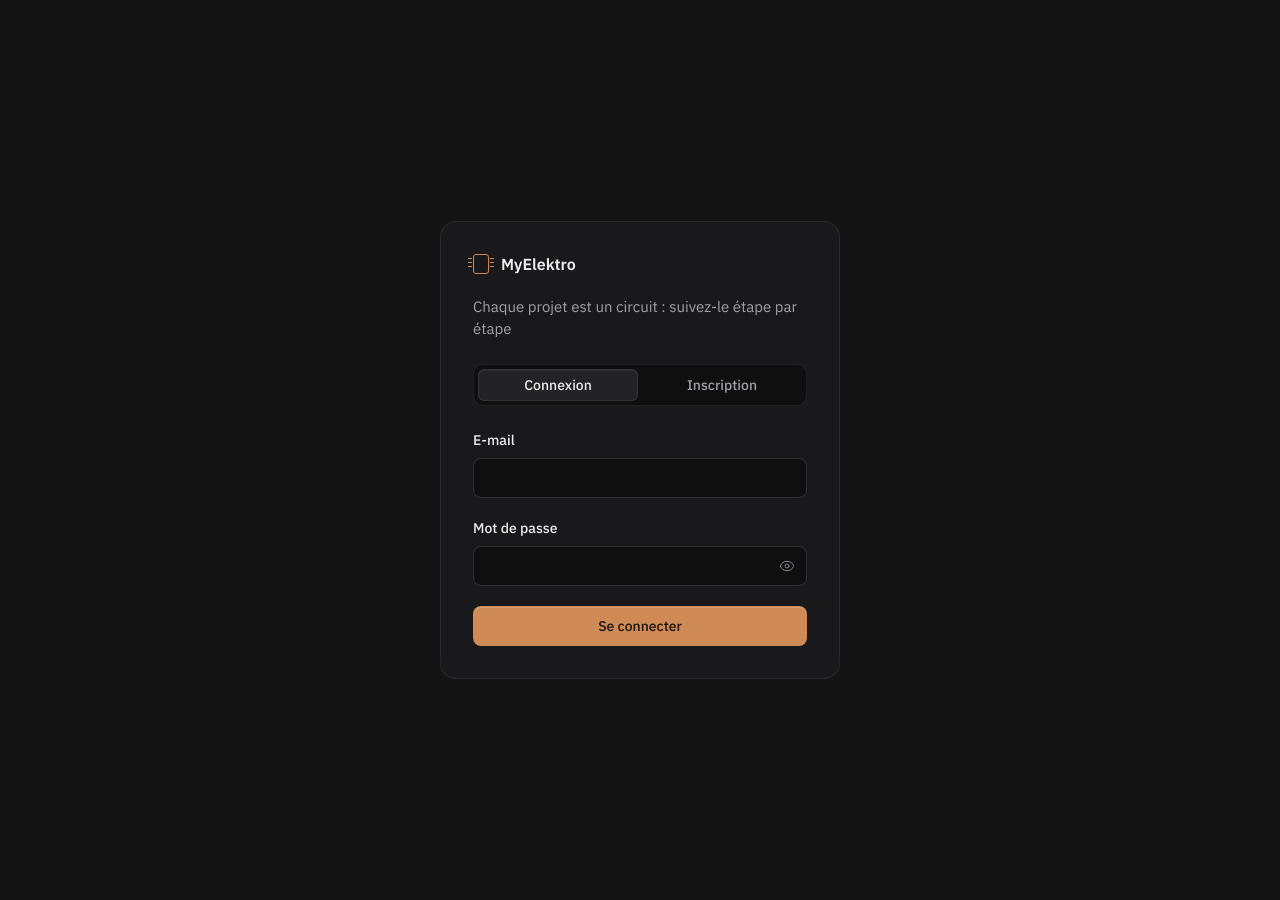
Test case: inscription : mot de passe › crée le compte avec un mot de passe valide et ouvre la liste
Click the tab "Inscription" at coordinates (722, 385), box [642, 369, 802, 401]
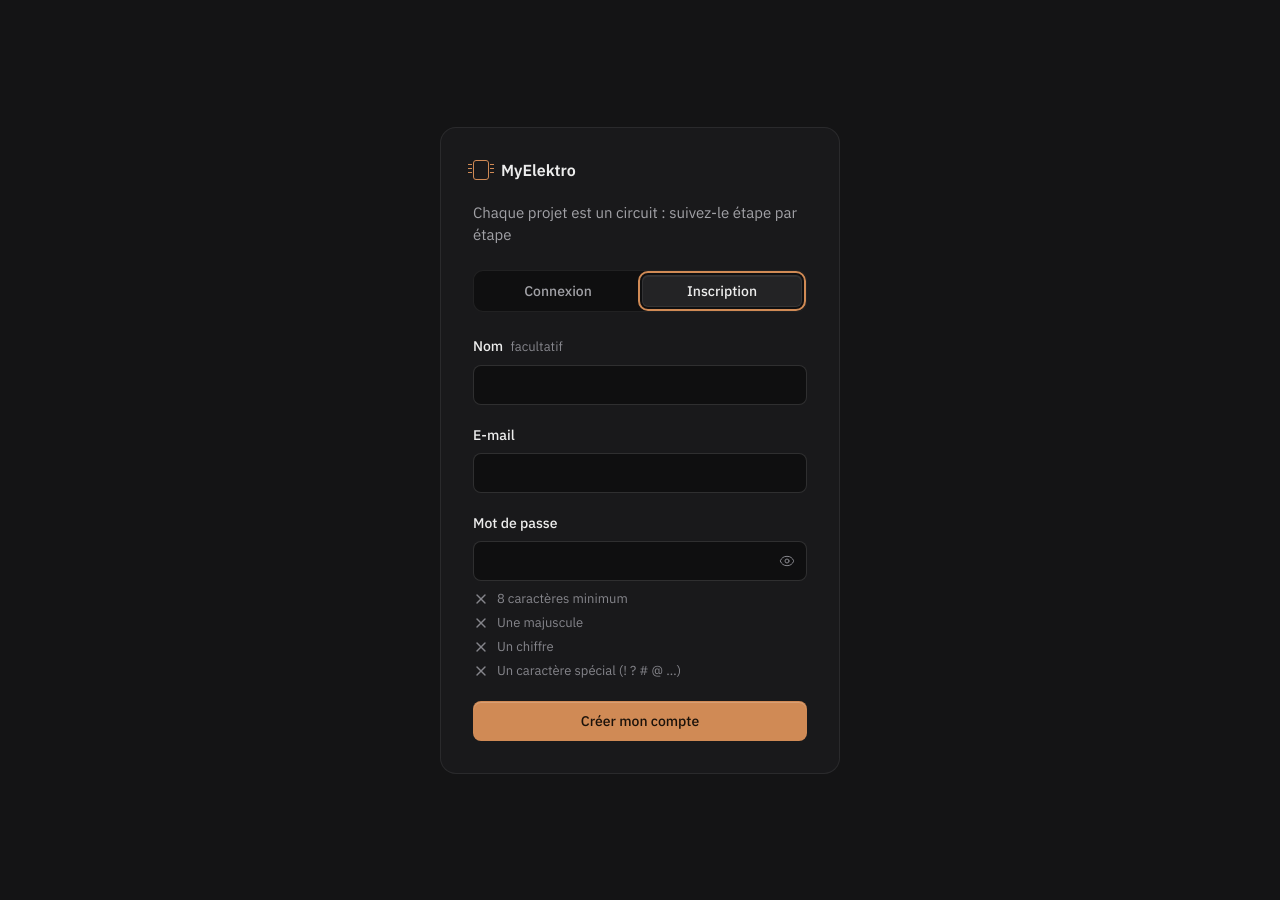
Type "a@b.fr" into the field labelled "E-mail" at coordinates (640, 472), box [473, 452, 807, 492]
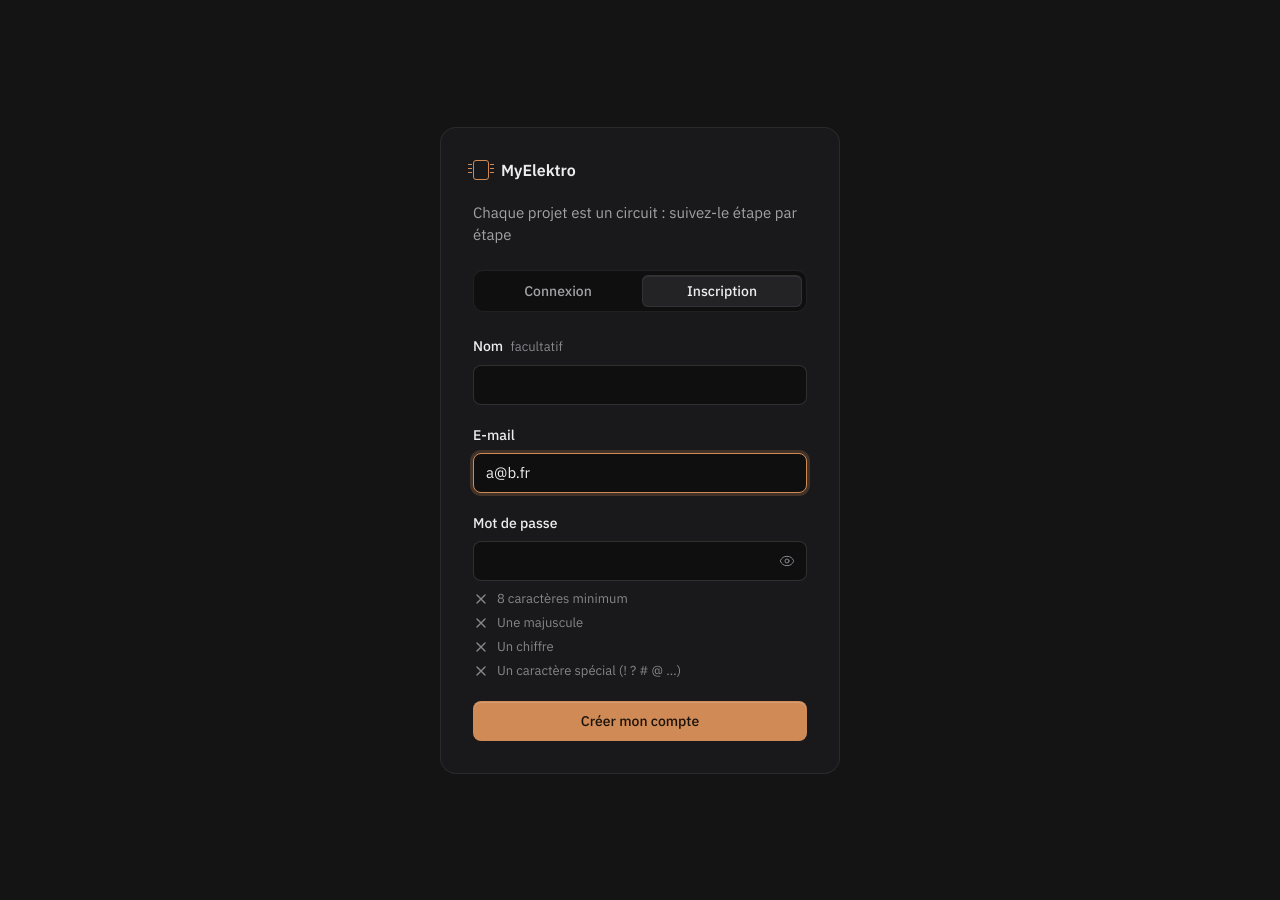
Type "Soudure1!" into the password field labelled "Mot de passe" at coordinates (640, 560), box [473, 540, 807, 580]
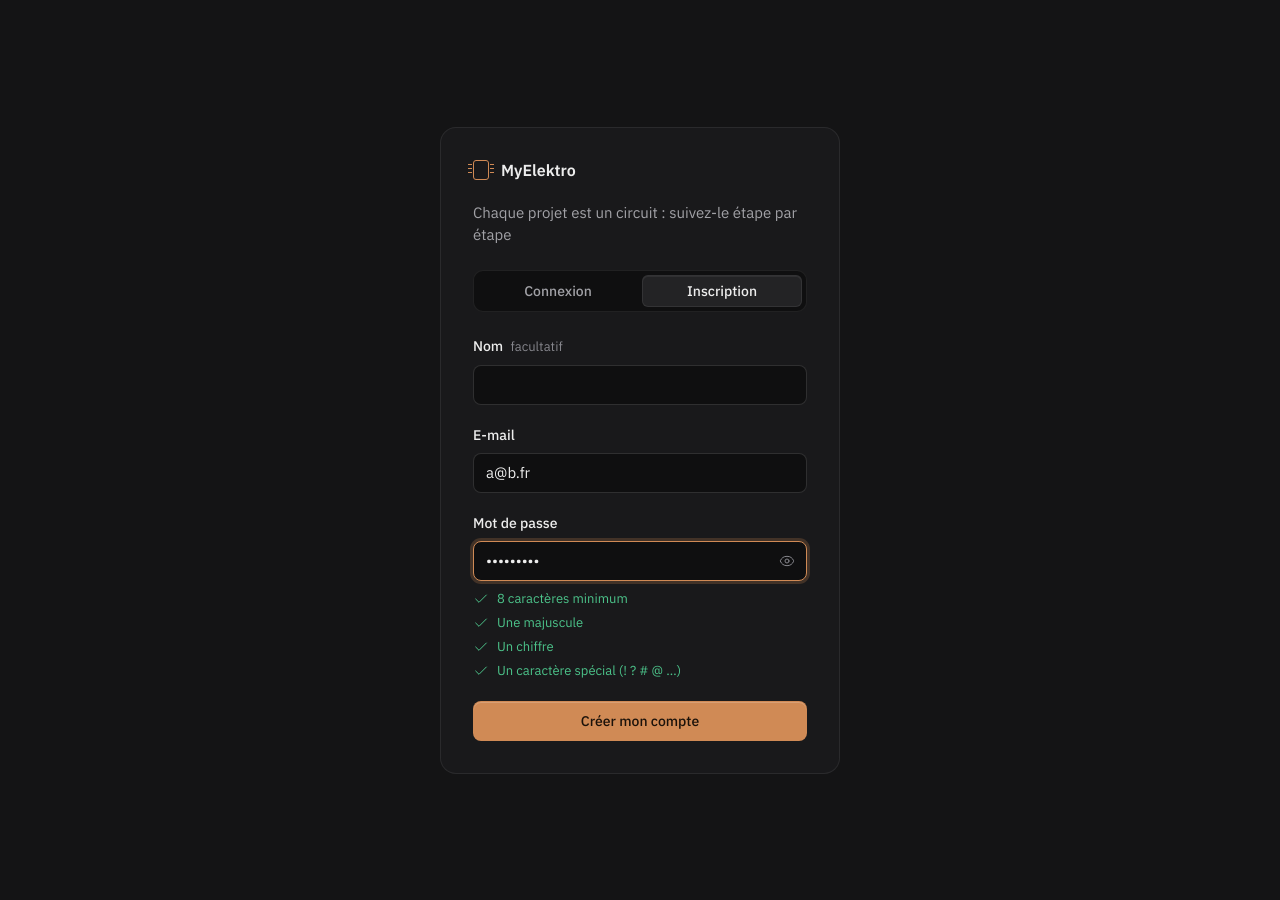
Click the button "Créer mon compte" at coordinates (640, 720), box [473, 700, 807, 740]
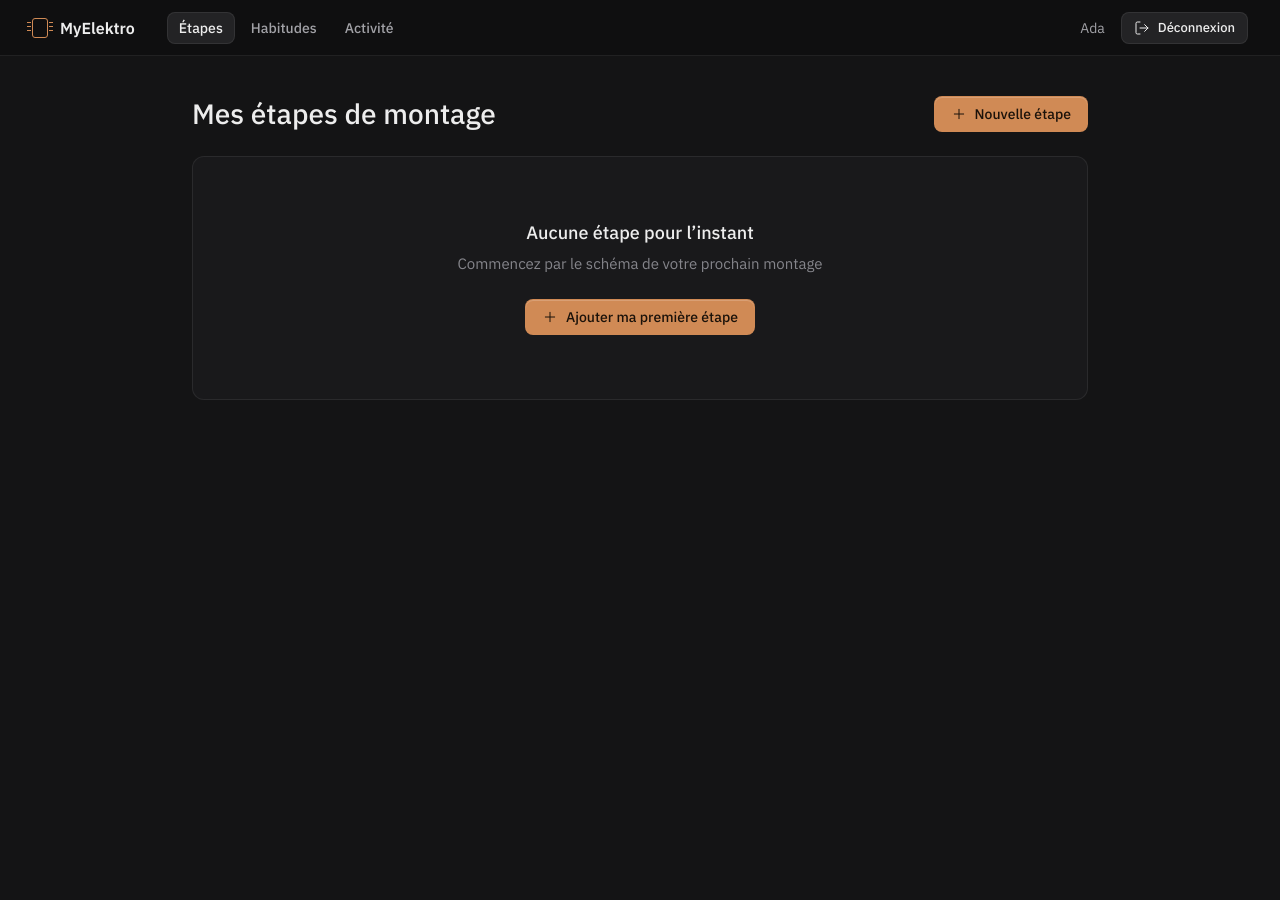
Expected: the heading "Aucune étape pour l’instant" is shown, [526, 221, 754, 245]
